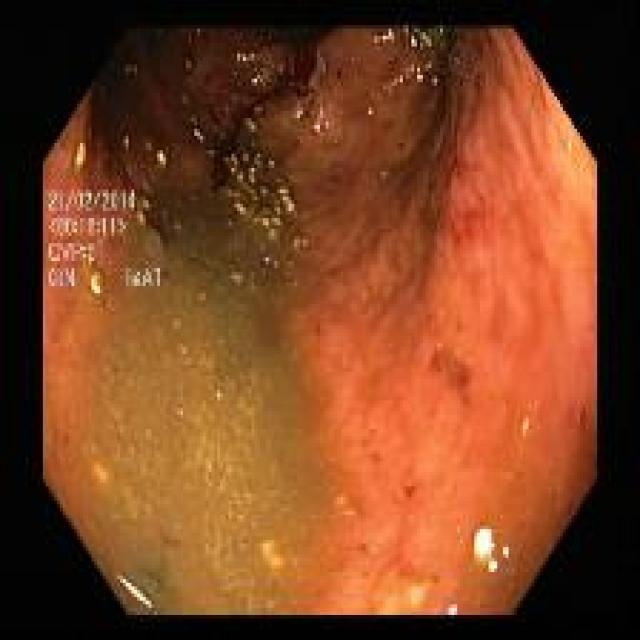ulcerative-colitis: (44, 30, 596, 615)
